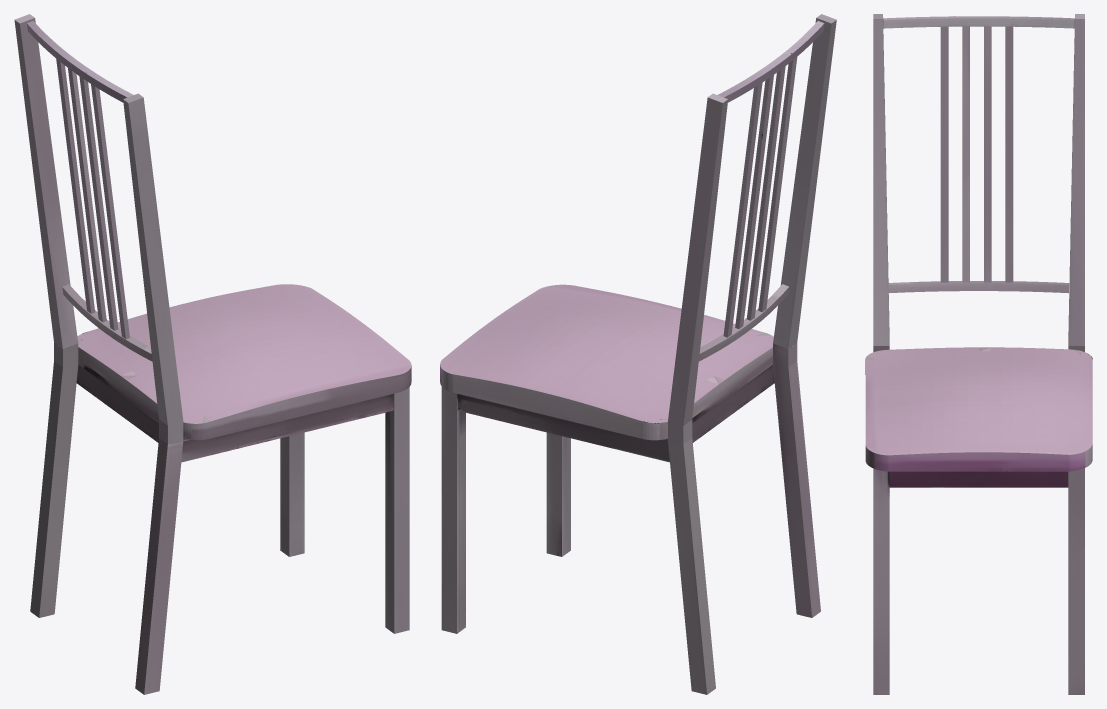
3 views of the same model, side by side, from view 1: azimuth 30°, elevation 25°; view 2: azimuth 150°, elevation 25°; view 3: azimuth 270°, elevation 25° (orthographic). The views are drawn at different scales.
Parts seen in each view (by area): view 1: Node; view 2: Node; view 3: Node.
Part boxes in pixels (left/top/right/bottom): Node: left=14, top=14, right=411, bottom=694; Node: left=440, top=14, right=836, bottom=694; Node: left=865, top=14, right=1092, bottom=694.
Bounding box in the file's own units: 0.3546 × 0.7 × 0.2594.
Materials: 1 (1 with a texture image).
